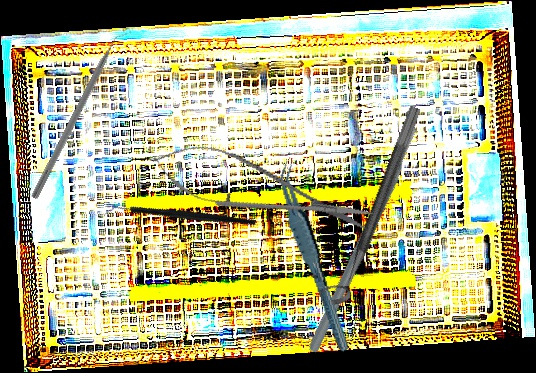Chopper: (234, 109, 490, 357), (30, 25, 134, 204), (104, 159, 257, 276)
Fixation Ring: (316, 98, 423, 310)
Micro Scissor: (145, 131, 379, 249)
Tissue Forceps: (274, 155, 351, 358)
